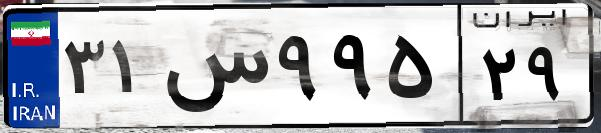1: (110, 28, 158, 98)
2: (475, 38, 525, 113)
3: (57, 26, 110, 100)
5: (385, 28, 445, 110)
9: (270, 28, 330, 110), (330, 28, 385, 110), (525, 38, 570, 115)
س: (158, 20, 270, 120)
